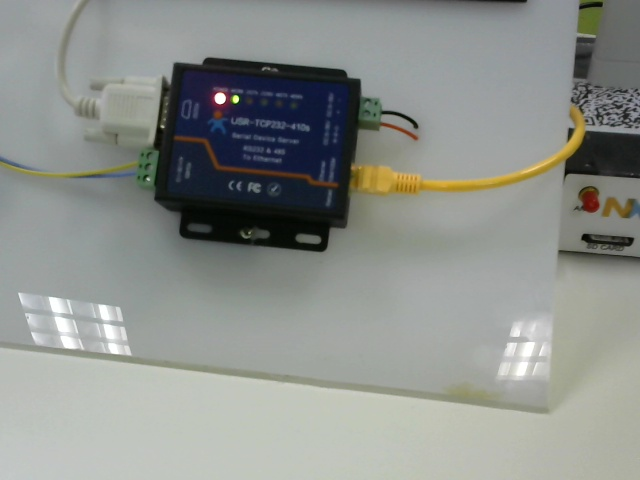modbus bridge: (161, 46, 349, 269)
